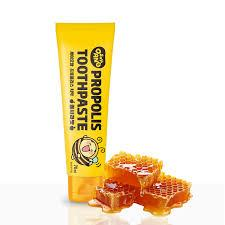toothpaste: (52, 19, 119, 199)
